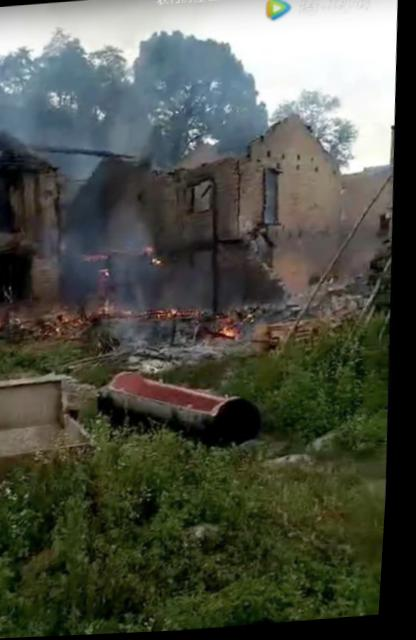fire: (222, 323, 235, 337)
